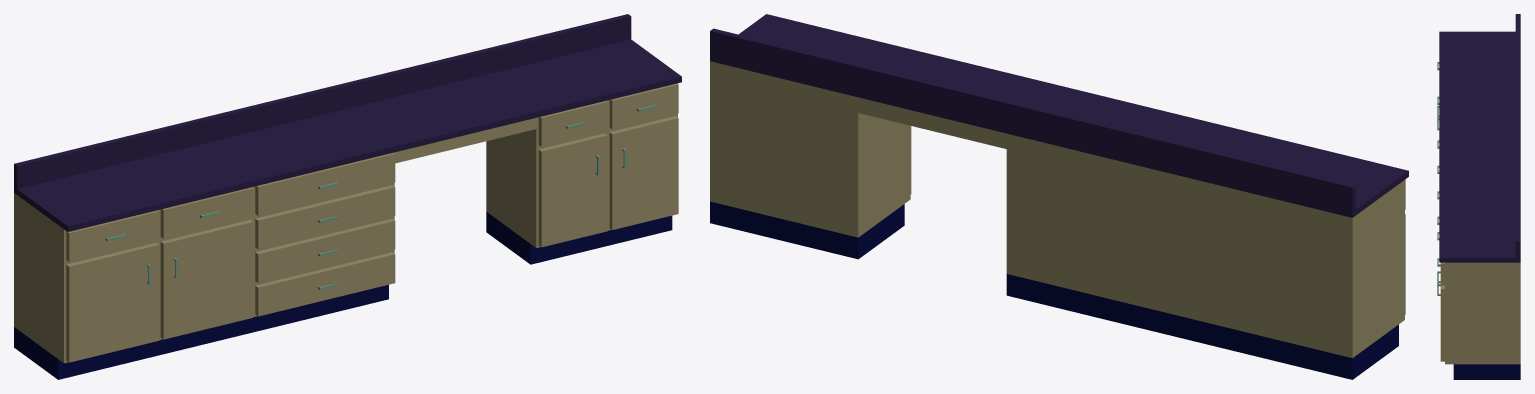
File: SM_LabCabinets_01a.fbx
The picture shows the model from 3 angles, left to right: view 1: azimuth 30°, elevation 25°; view 2: azimuth 150°, elevation 25°; view 3: azimuth 270°, elevation 25°; orthographic projection. The views are drawn at different scales.
Parts seen in each view (by area): view 1: SM_LabCabinets_01a, SM_LabDoor_01a, SM_LabDoor_02a, SM_LabDoor_03a, SM_LabDoor_04a, SM_LabDrawer_04a, SM_LabDrawer_05a, SM_LabDrawer_06a, SM_LabDrawer_02a.001, SM_LabDrawer_02a, SM_LabDrawer_01a, SM_LabDrawer_08a (+1 smaller); view 2: SM_LabCabinets_01a; view 3: SM_LabCabinets_01a, SM_LabDoor_04a, SM_LabDrawer_08a.
Boxes of the visible parts, x1,y1,x2,y2 form: SM_LabCabinets_01a: (14, 14, 681, 379); SM_LabDoor_01a: (66, 243, 159, 362); SM_LabDoor_02a: (160, 219, 253, 339); SM_LabDoor_03a: (538, 133, 607, 247); SM_LabDoor_04a: (609, 116, 678, 229); SM_LabDrawer_04a: (255, 185, 395, 249); SM_LabDrawer_05a: (255, 218, 395, 282); SM_LabDrawer_06a: (255, 252, 395, 316); SM_LabDrawer_02a.001: (255, 152, 395, 215); SM_LabDrawer_02a: (160, 187, 253, 238); SM_LabDrawer_01a: (66, 210, 159, 261); SM_LabDrawer_08a: (609, 83, 678, 129); SM_LabCabinets_01a: (710, 14, 1408, 379); SM_LabCabinets_01a: (1439, 14, 1520, 379); SM_LabDoor_04a: (1437, 281, 1444, 361); SM_LabDrawer_08a: (1437, 258, 1444, 285).
Bounding box in the file's own units: 3.96 × 1.13 × 0.6148.
